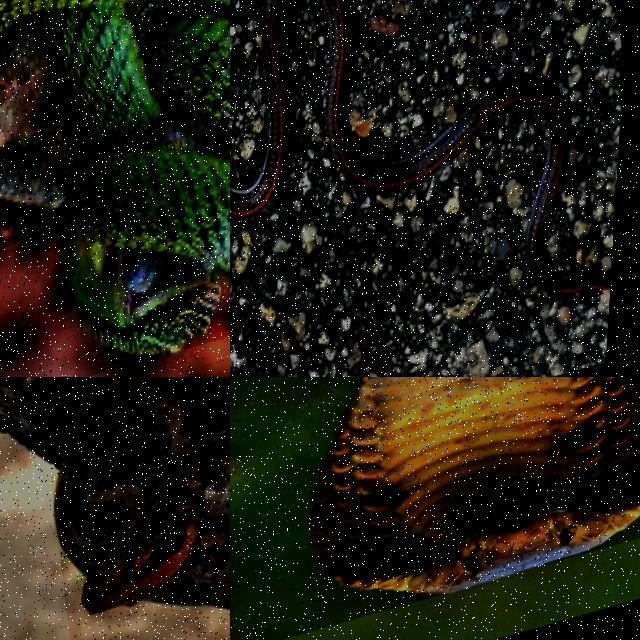Calliophis intestinalis: (326, 0, 610, 293)
Chrysopelea ornata: (0, 0, 229, 355)
Ophiophagus hannah: (313, 377, 639, 592)
Python bivittatus: (56, 377, 229, 611)
